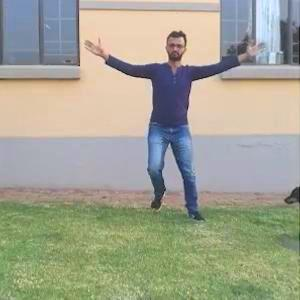takeoff: (76, 28, 242, 206)
